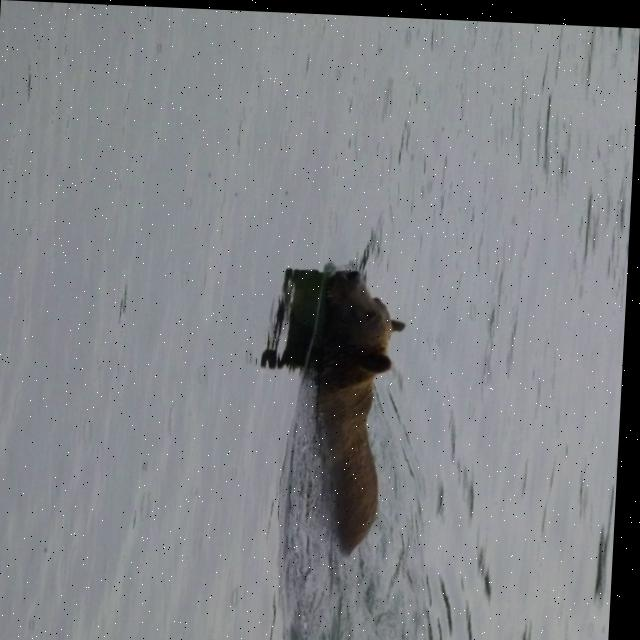bear face: (311, 265, 412, 552)
